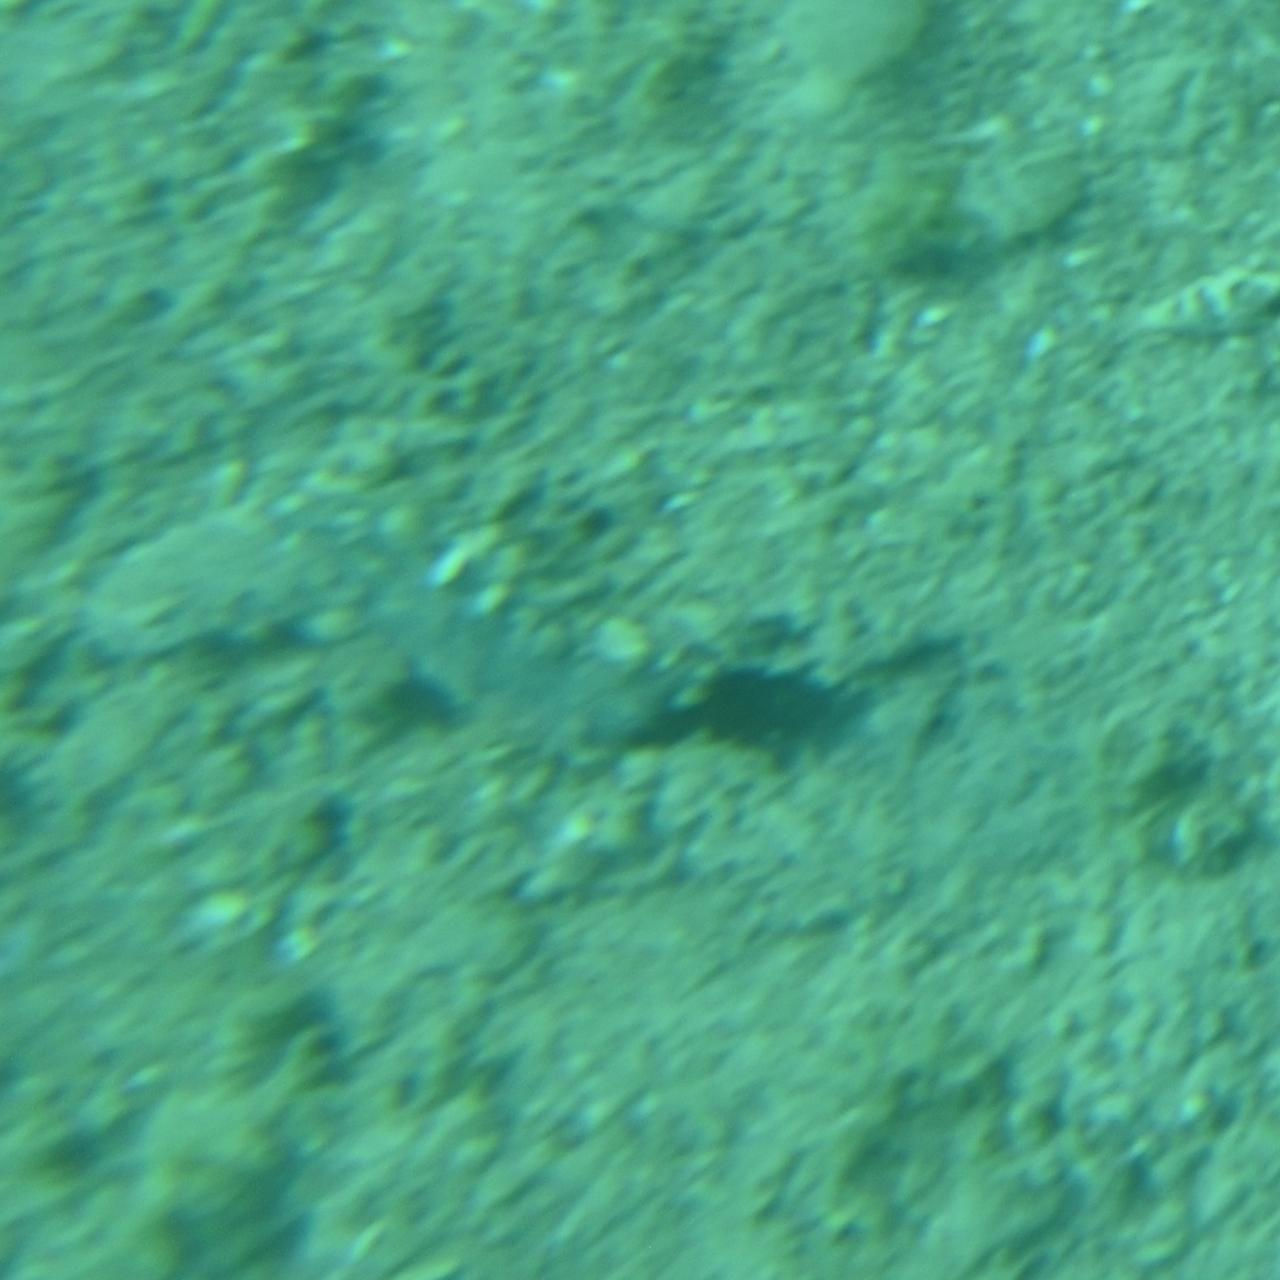Holothuria tubulosa: (82, 488, 975, 792)
